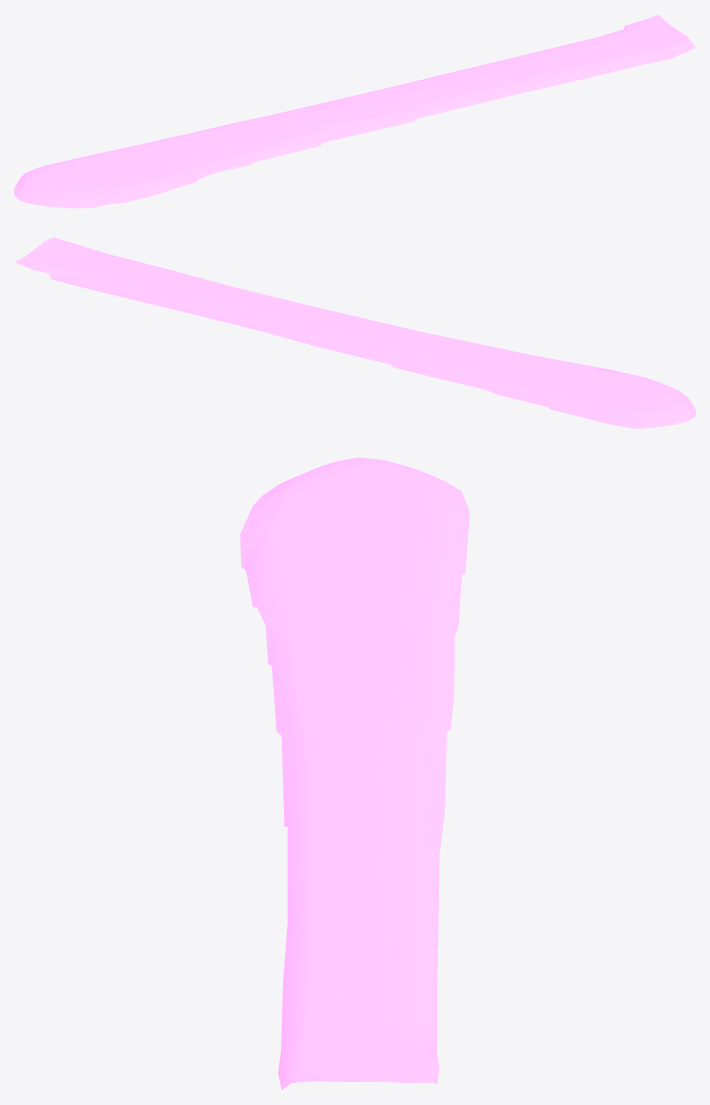
The model's file is nick_katana.glb.
3 views of the same model, one above another, from view 1: azimuth 30°, elevation 25°; view 2: azimuth 150°, elevation 25°; view 3: azimuth 270°, elevation 25° (orthographic). The views are drawn at different scales.
Parts seen in each view (by area): view 1: Nick katana; view 2: Nick katana; view 3: Nick katana.
Boxes of the visible parts, bbox=[...] form: Nick katana: bbox=[14, 14, 695, 208]; Nick katana: bbox=[14, 237, 695, 428]; Nick katana: bbox=[240, 457, 469, 1090].
Bounding box in the file's own units: 57.51 × 0.9 × 8.66.
